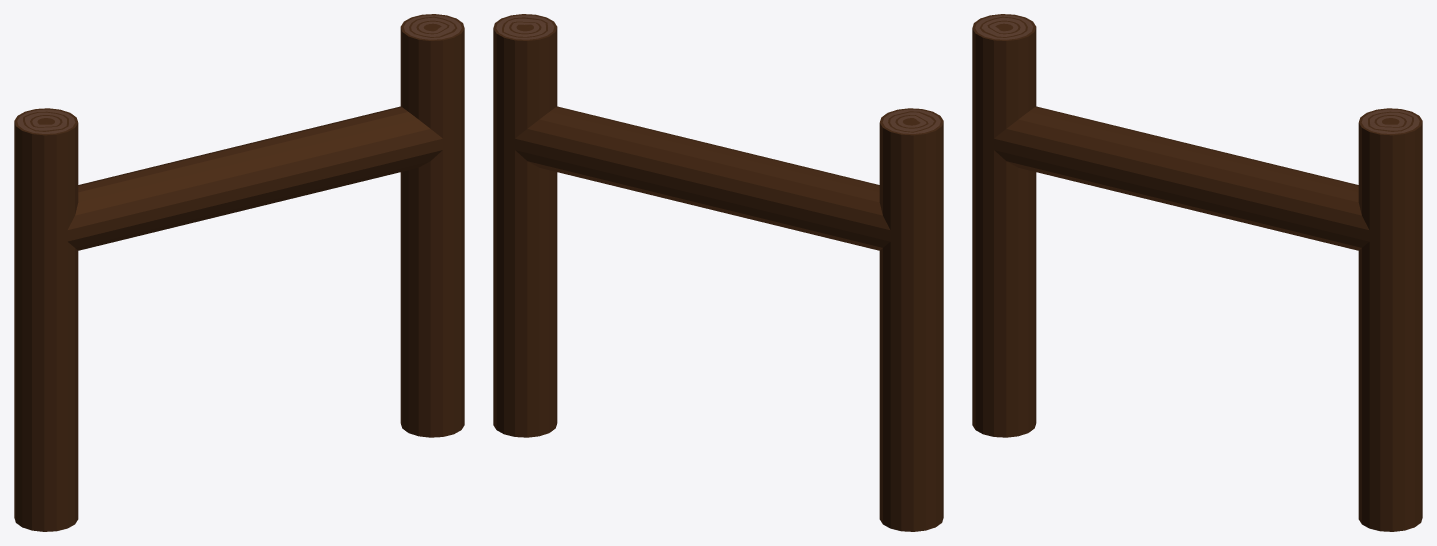
Rendered from BridgePoles.fbx.
3 views of the same model, side by side, from view 1: azimuth 30°, elevation 25°; view 2: azimuth 150°, elevation 25°; view 3: azimuth 330°, elevation 25° (orthographic).
Visible parts, largest first — view 1: BridgePoles; view 2: BridgePoles; view 3: BridgePoles.
Part boxes in pixels (x1,y1,x2,y2): BridgePoles: (14, 14, 464, 531); BridgePoles: (493, 14, 943, 531); BridgePoles: (972, 14, 1422, 531).
Size of the model in its own units: 4.49 by 3.86 by 0.5546.
